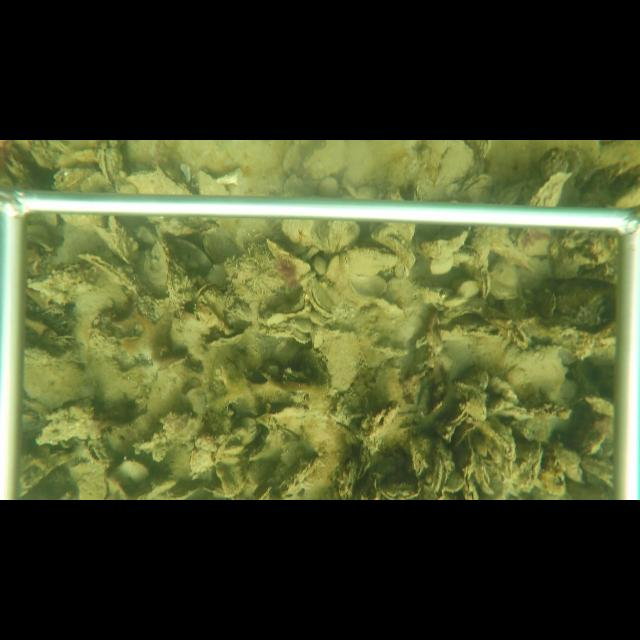Oyster-Closed: (76, 252, 144, 296), (321, 327, 363, 394), (124, 169, 193, 195), (526, 173, 574, 208), (304, 283, 337, 318), (98, 148, 124, 184)
